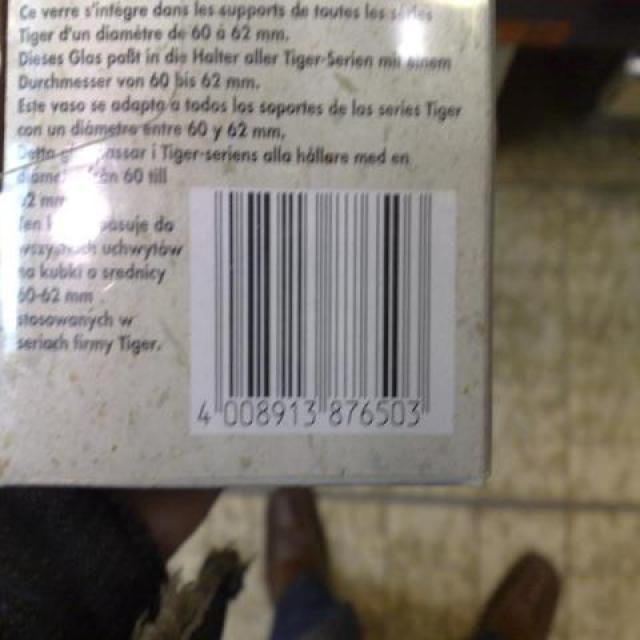Barcode: (188, 187, 456, 433)
